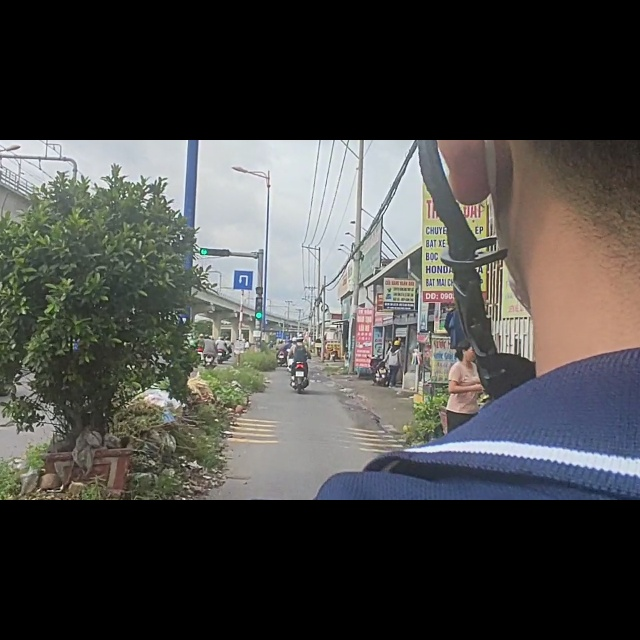bien_chi_dan: (233, 229, 254, 271)
